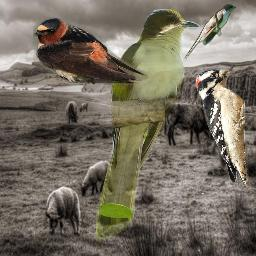Cuckoo: (95, 9, 200, 242), (184, 4, 236, 60)
Swallow: (33, 17, 148, 85)
Woodpecker: (195, 66, 249, 188)
